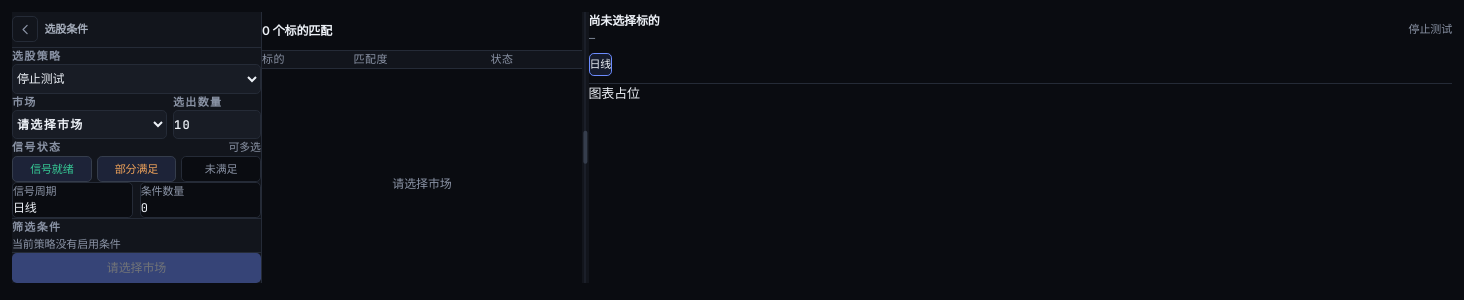
ScreenerWorkspace pending selections › aborts the active request when stop screening is clicked
Select "股票" in the dropdown labelled "市场". click: (89, 125)
box: x1=12 y1=110 x2=166 y2=139
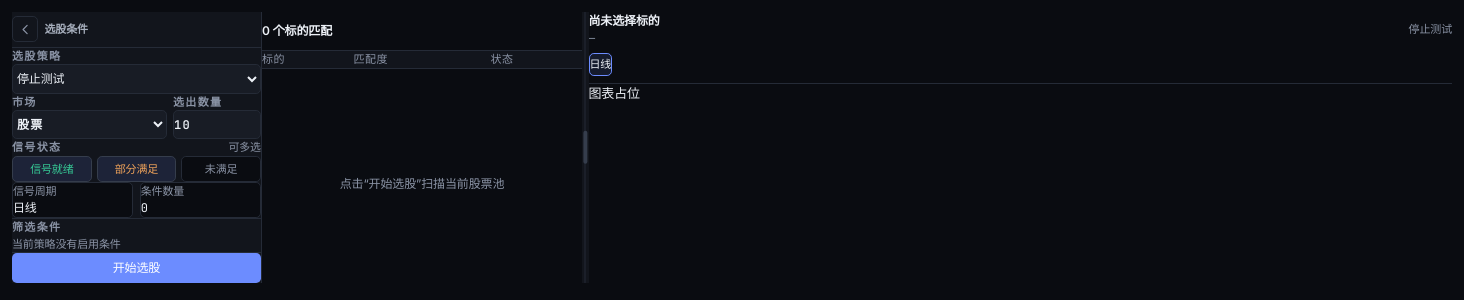
Click the button "开始选股". click: (136, 268)
box: x1=12 y1=253 x2=261 y2=283
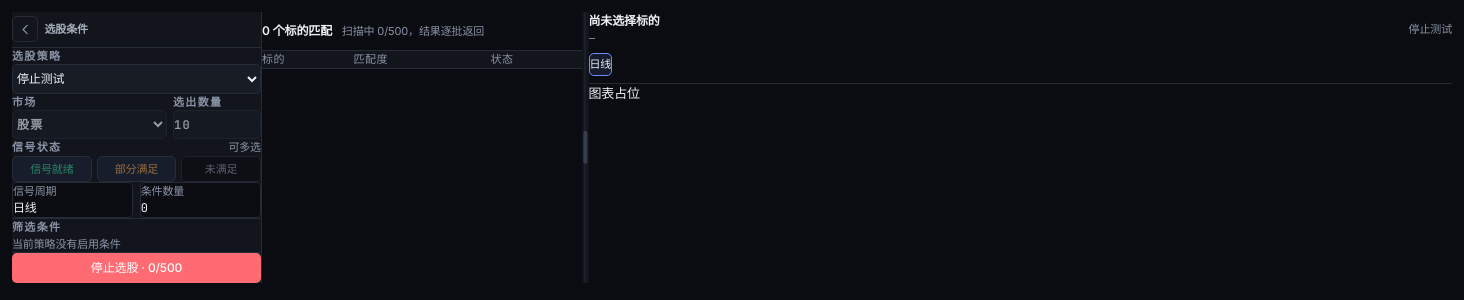
Click the button "停止选股 · 0/500". click: (136, 268)
box: x1=12 y1=253 x2=261 y2=283
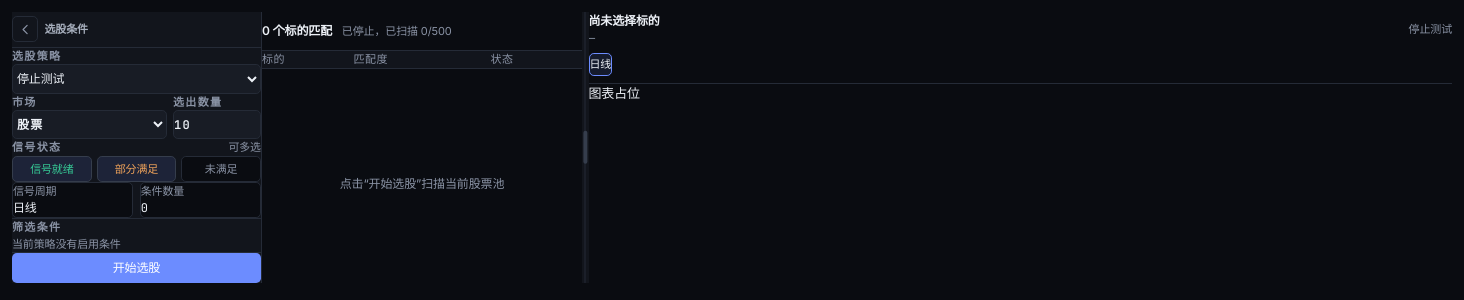
Result: the text "已停止，已扫描 0/500" is shown at x1=342 y1=23 x2=452 y2=39
